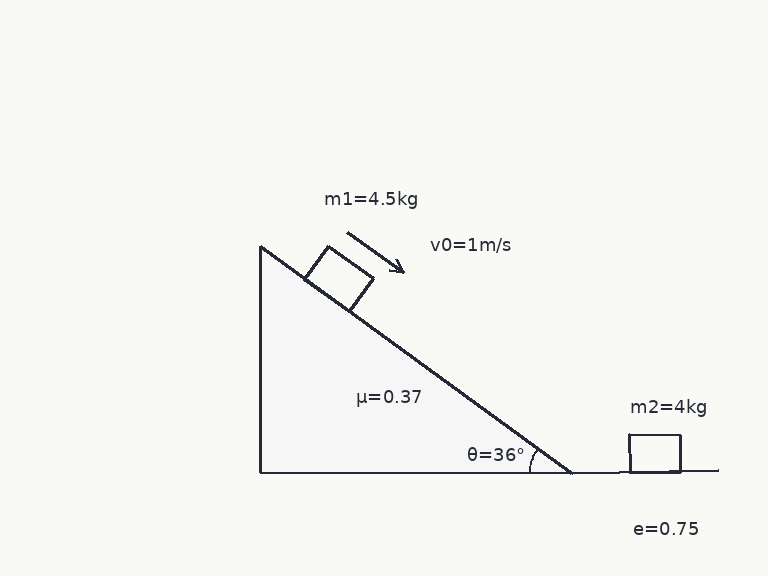block: (302, 244, 375, 313), (627, 433, 683, 474)
ramp: (257, 244, 572, 474)
